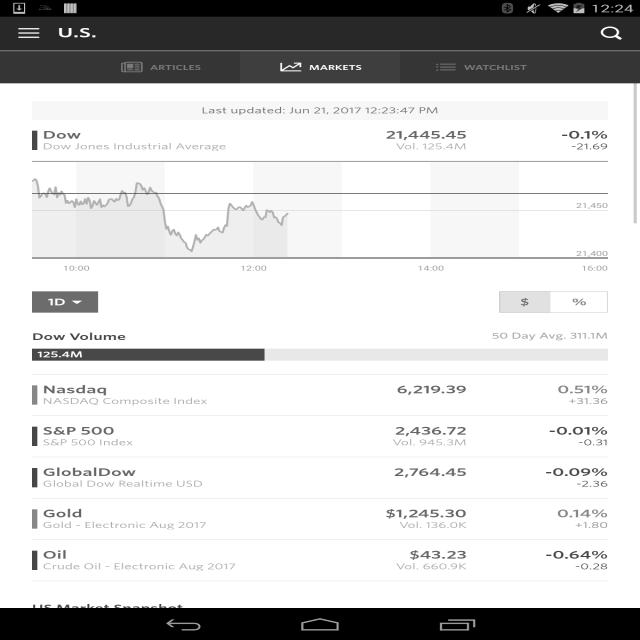Button: (22, 33, 185, 59), (189, 33, 352, 59), (550, 291, 608, 313), (498, 291, 552, 313), (16, 17, 42, 50), (598, 17, 624, 50)
EditText: (299, 61, 608, 83)
Spinner: (33, 291, 66, 313)
